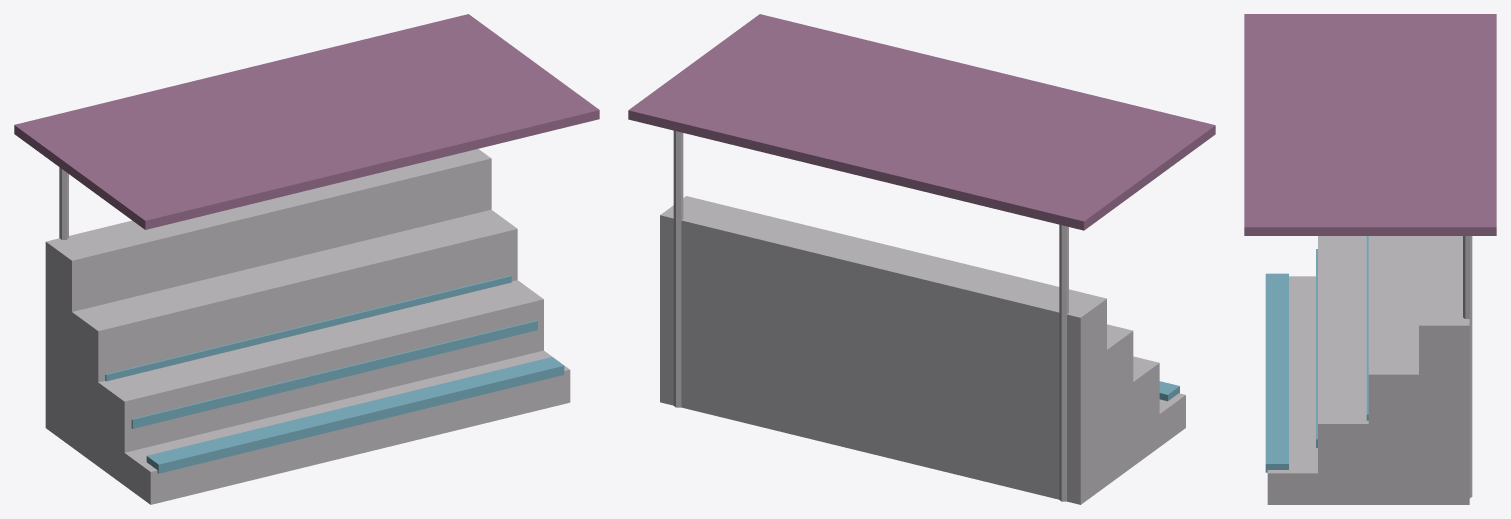
The model's file is stand.glb.
3 renders of one model, left to right at view 1: azimuth 30°, elevation 25°; view 2: azimuth 150°, elevation 25°; view 3: azimuth 270°, elevation 25°, orthographic. The views are drawn at different scales.
Visible parts, largest first — view 1: SCN_stand; view 2: SCN_stand; view 3: SCN_stand.
Part boxes in pixels (left/top/right/bottom): SCN_stand: left=14, top=14, right=599, bottom=504; SCN_stand: left=628, top=14, right=1215, bottom=504; SCN_stand: left=1244, top=14, right=1496, bottom=504.
Bounding box in the file's own units: 13 × 8.12 × 6.5.
